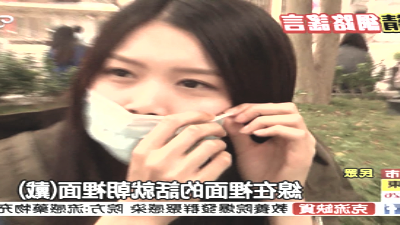mask_weared_incorrect: (79, 47, 230, 169)
